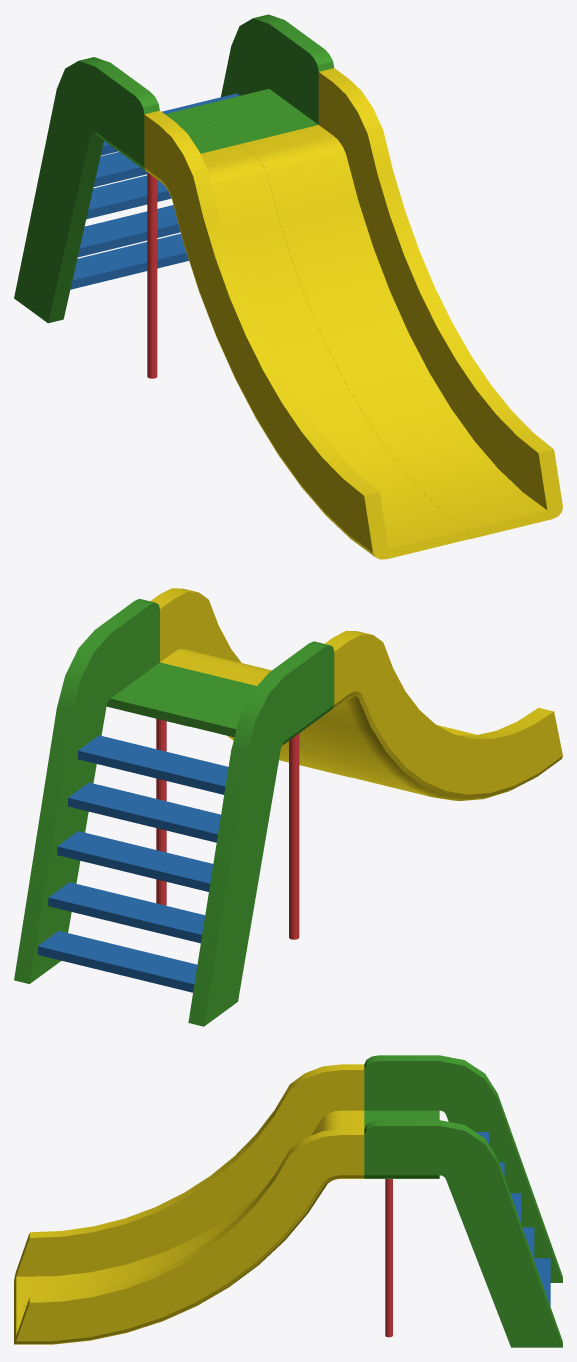
File: slide.fbx
The picture shows the model from 3 angles, top to bottom: view 1: azimuth 30°, elevation 25°; view 2: azimuth 150°, elevation 25°; view 3: azimuth 270°, elevation 25°; orthographic projection. The views are drawn at different scales.
Parts seen in each view (by area): view 1: slide; view 2: slide; view 3: slide.
Boxes of the visible parts, x1,y1,x2,y2 form: slide: [14, 14, 562, 559]; slide: [14, 588, 562, 1026]; slide: [14, 1055, 562, 1347].
Size of the model in its own units: 128 by 188 by 422.
